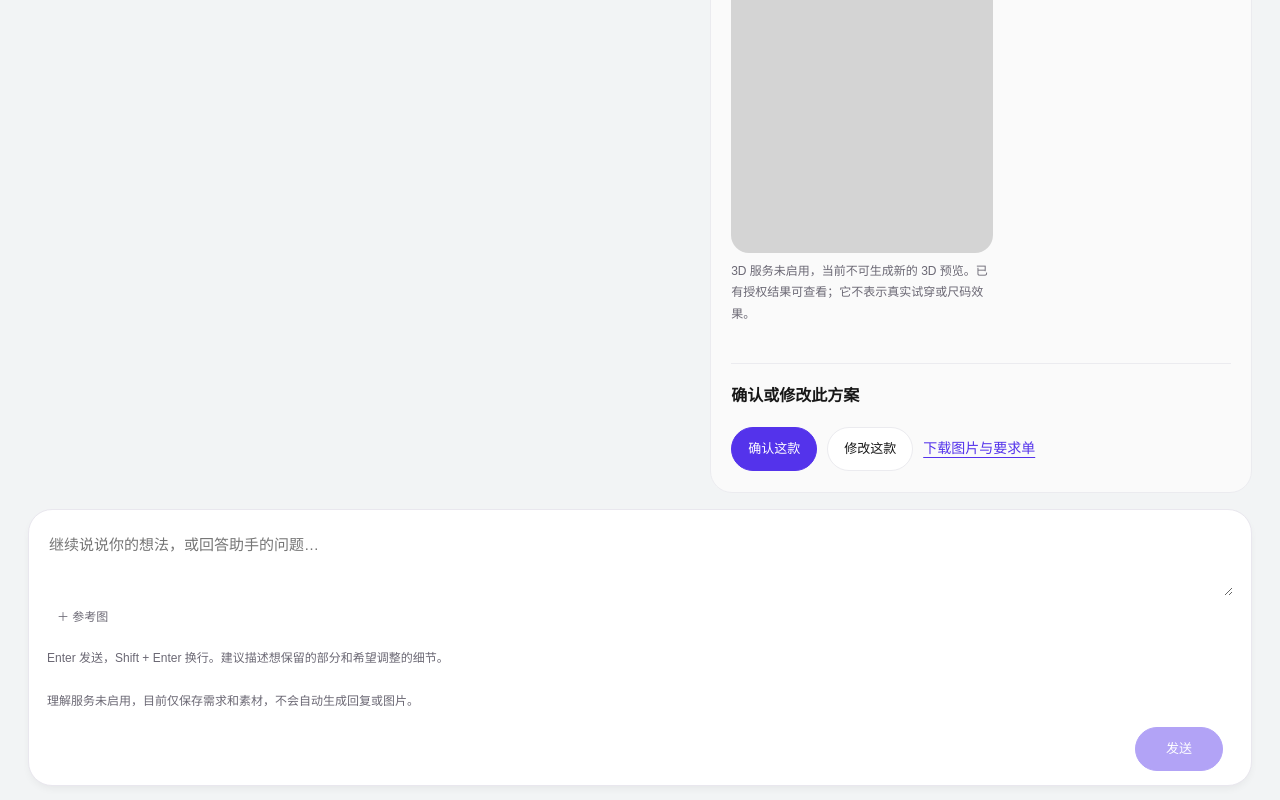
Test: 弹窗Tab在内部循环，Escape归焦并保留未保存修改
The width and height of the screenshot is (1280, 800).
(page scrolled)
Click the button "修改这款": (870,449) 827,427 -> 913,471
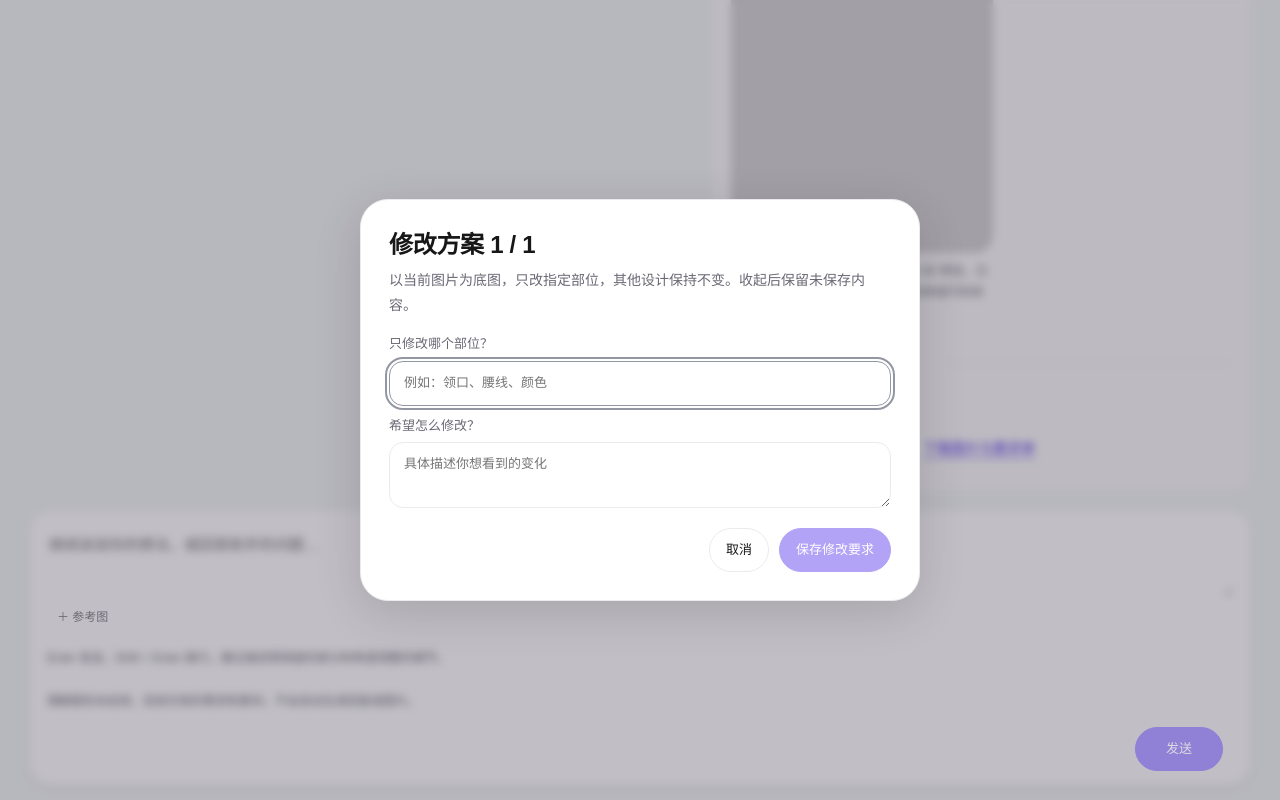
In the field labelled "只修改哪个部位？": (640,383) 389,361 -> 891,406, type "领口"
In the text box labelled "希望怎么修改？": (640,475) 389,442 -> 891,508, type "保留结构，加深一厘米"
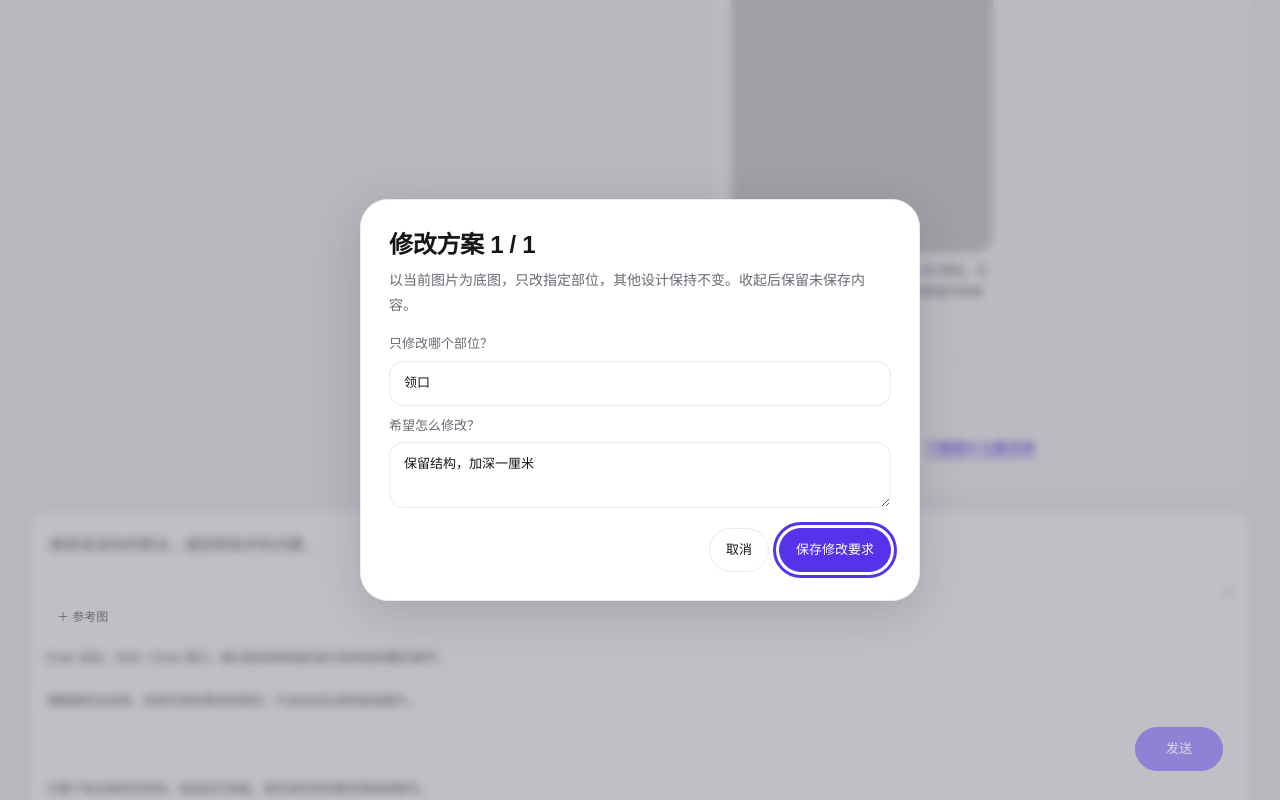
Press Tab in the button "保存修改要求", box 779,528 -> 891,572
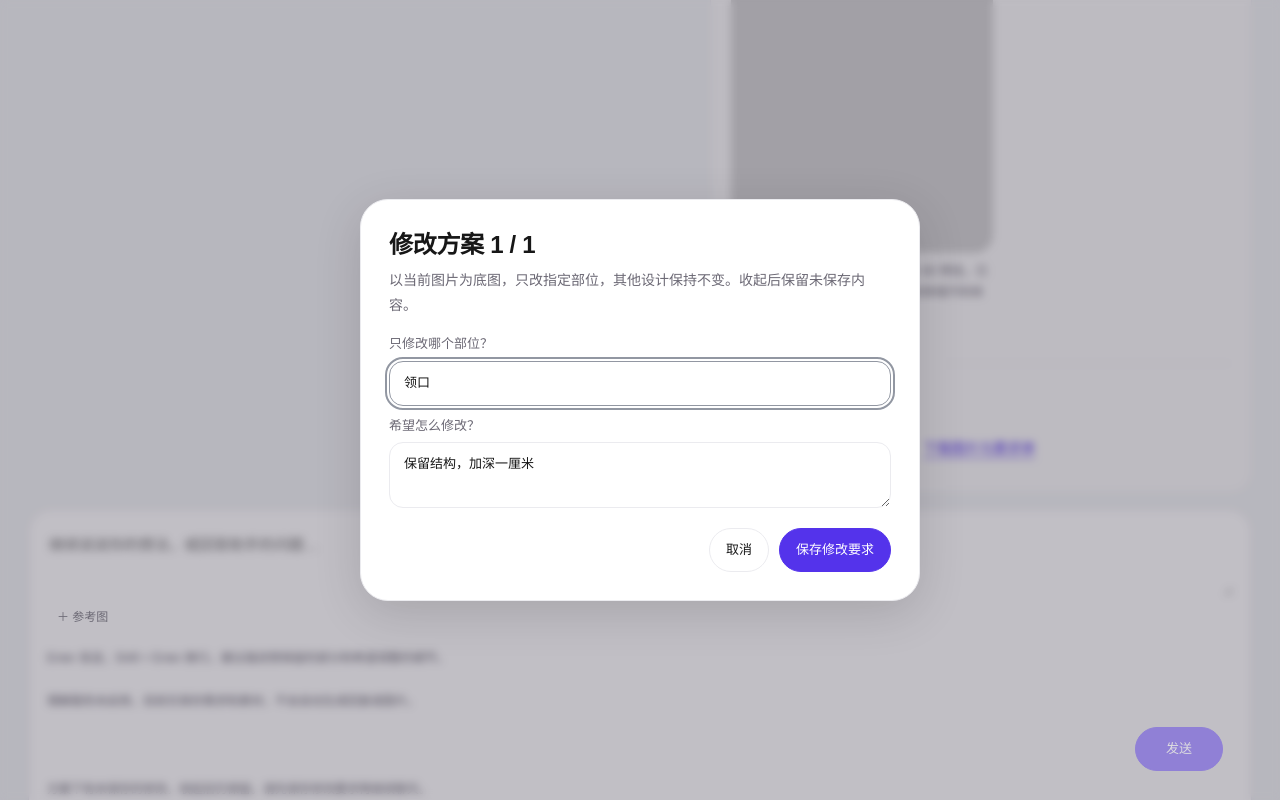
Press Tab in the field labelled "只修改哪个部位？", box 389,361 -> 891,406
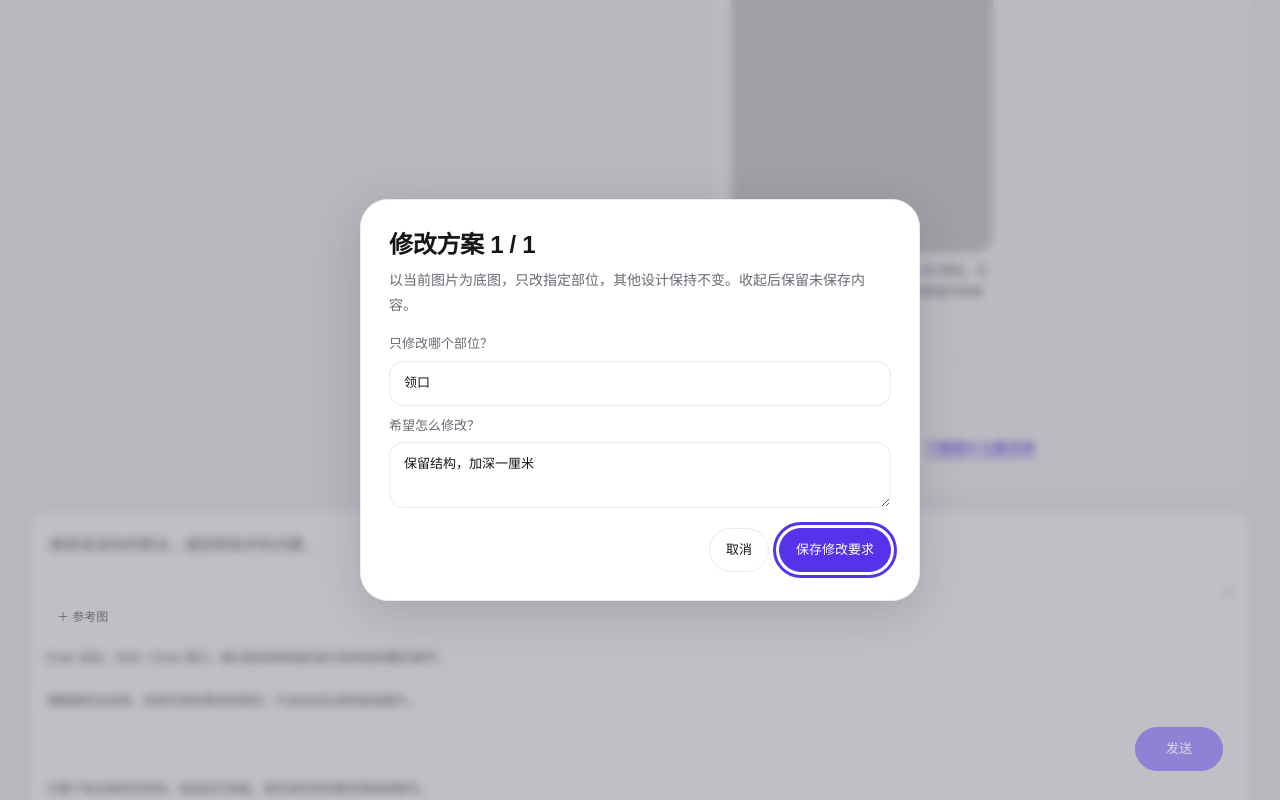
Press Escape in the button "保存修改要求", box 779,528 -> 891,572
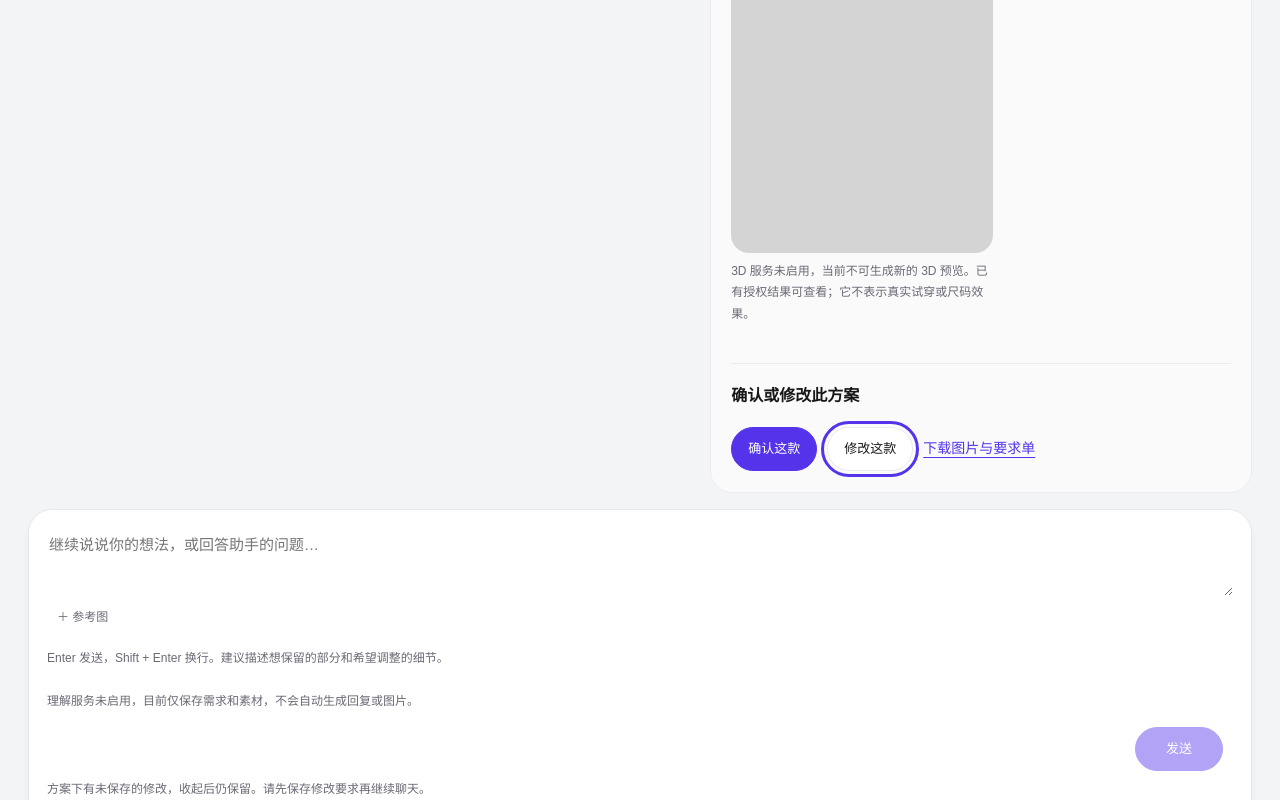
Expected: the dialog is gone
Click the button "修改这款": (870,449) 827,427 -> 913,471
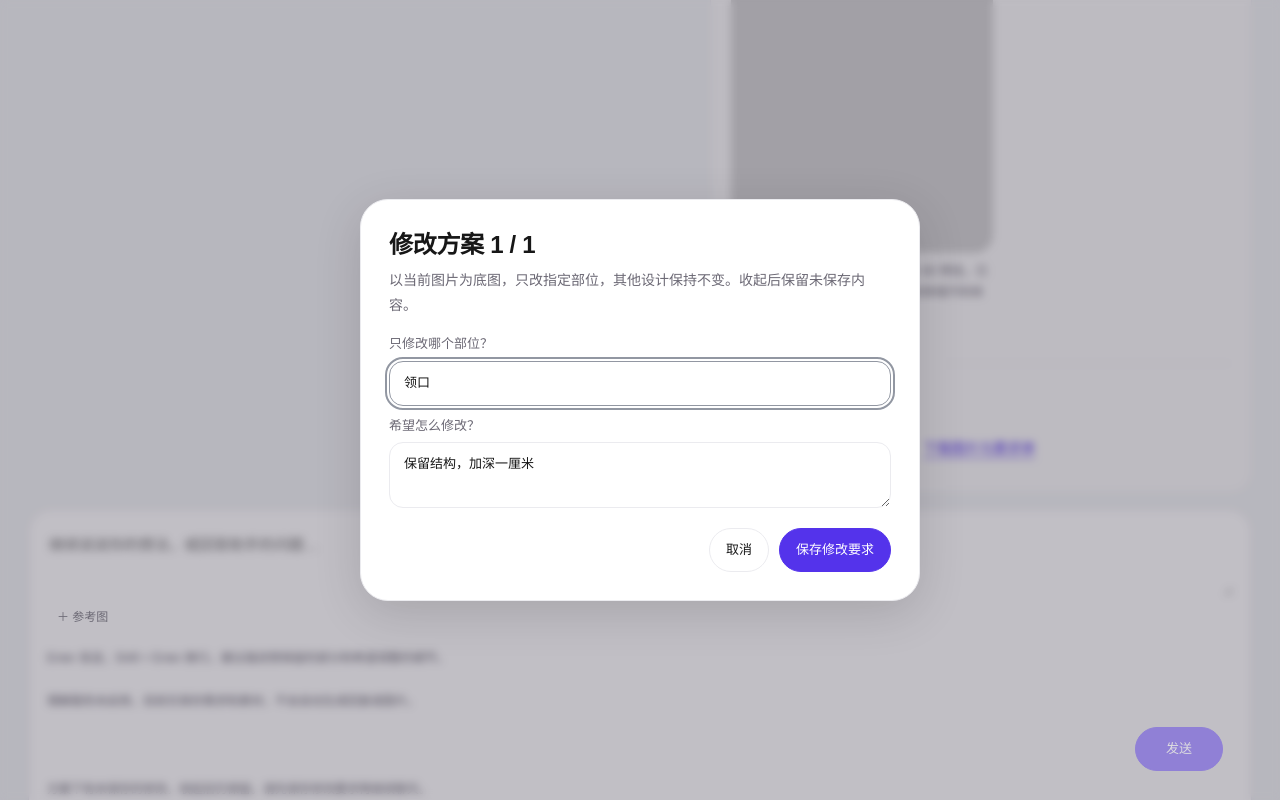
Expected: the text box labelled "希望怎么修改？" holds "保留结构，加深一厘米", 389,442 -> 891,508
